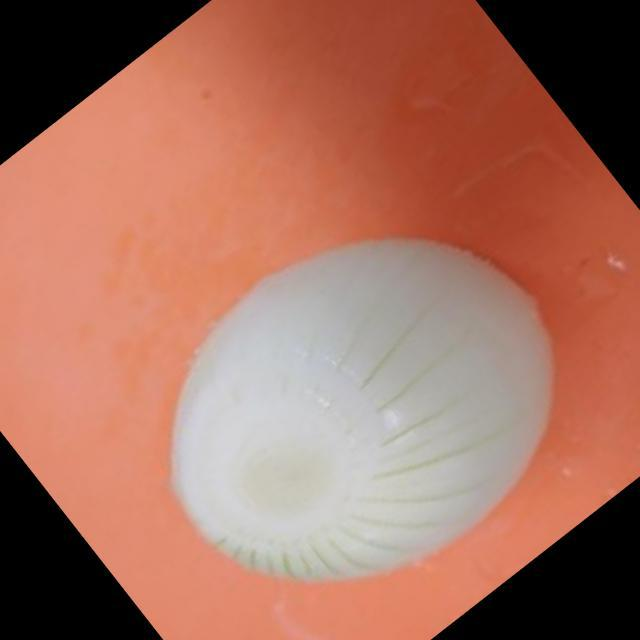Onion: (168, 233, 562, 579)
